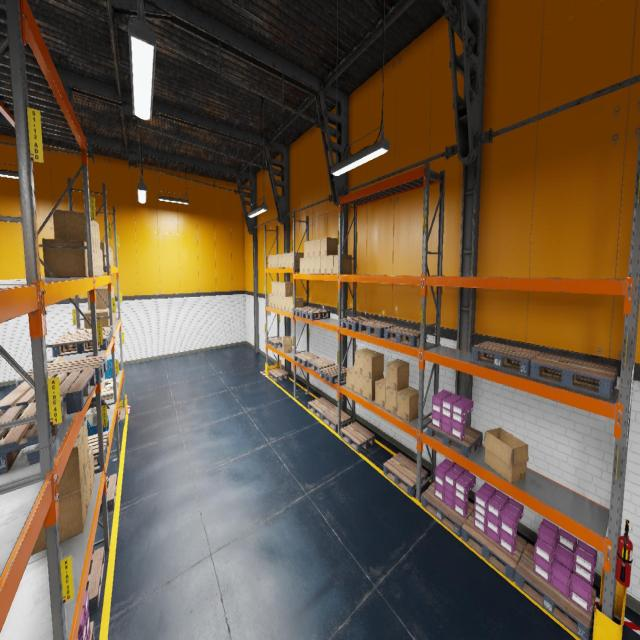box: (31, 474, 87, 556), (484, 428, 528, 483), (42, 239, 88, 277), (58, 433, 85, 497), (53, 210, 93, 245), (397, 386, 418, 422), (386, 359, 409, 391), (385, 386, 408, 415), (363, 351, 383, 379), (78, 421, 89, 471), (363, 375, 383, 401), (354, 348, 374, 374), (87, 288, 109, 310), (84, 310, 110, 328), (333, 254, 352, 274), (375, 377, 386, 409), (88, 446, 95, 494), (320, 237, 338, 255), (85, 458, 91, 511), (97, 287, 112, 306), (354, 371, 363, 396), (290, 252, 304, 268), (289, 297, 303, 312), (346, 366, 354, 391), (286, 296, 298, 311), (282, 336, 292, 353), (99, 286, 113, 297), (282, 282, 293, 296), (105, 379, 117, 391), (100, 242, 106, 266), (101, 286, 114, 297), (274, 282, 284, 295), (101, 390, 113, 400), (271, 282, 281, 294), (327, 255, 333, 274), (278, 282, 286, 296), (96, 248, 100, 275), (92, 221, 96, 247), (98, 249, 102, 275), (315, 256, 320, 274), (321, 256, 326, 274), (315, 238, 320, 256), (94, 247, 97, 276), (92, 246, 95, 275), (97, 222, 100, 250), (104, 378, 113, 387), (95, 221, 98, 248), (304, 241, 309, 257), (304, 257, 309, 273), (108, 380, 119, 387), (310, 240, 314, 256), (310, 257, 314, 273), (300, 257, 304, 273), (285, 253, 289, 267), (274, 254, 278, 268), (101, 388, 110, 394), (101, 249, 103, 275), (268, 255, 272, 268), (282, 296, 285, 310), (278, 296, 281, 309), (275, 295, 278, 308), (282, 254, 285, 267), (278, 254, 281, 267), (110, 247, 112, 266), (111, 248, 113, 266), (112, 312, 114, 326), (272, 294, 274, 308), (272, 255, 274, 268), (269, 294, 271, 306), (113, 313, 115, 324), (109, 247, 110, 266), (115, 302, 116, 321), (114, 313, 116, 322), (112, 249, 113, 266)
pallets: (515, 543, 596, 639), (0, 397, 64, 474), (461, 510, 527, 582), (0, 369, 96, 414), (530, 353, 618, 398), (421, 481, 474, 537), (16, 355, 107, 387), (471, 340, 541, 376), (383, 452, 428, 497), (427, 422, 483, 457), (51, 332, 110, 357), (87, 546, 104, 616), (340, 422, 375, 453), (61, 326, 113, 346), (384, 326, 426, 346), (321, 406, 351, 432), (88, 431, 109, 466), (358, 320, 398, 338), (100, 473, 117, 512), (308, 397, 335, 419), (340, 316, 376, 332), (319, 364, 346, 384), (307, 356, 335, 374), (294, 351, 319, 367), (302, 309, 330, 320), (292, 306, 318, 317), (268, 368, 288, 382), (115, 408, 126, 427), (268, 337, 282, 348), (90, 622, 94, 640)
